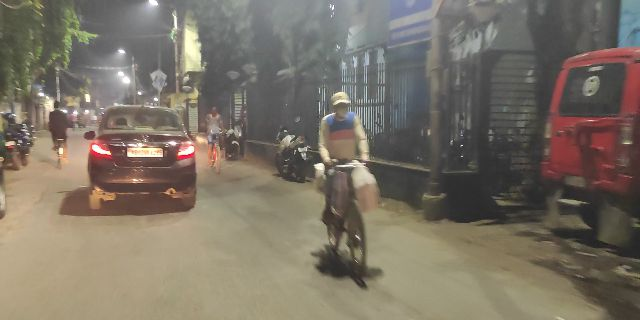Car: (84, 108, 198, 209)
Cycle: (314, 84, 382, 281)
